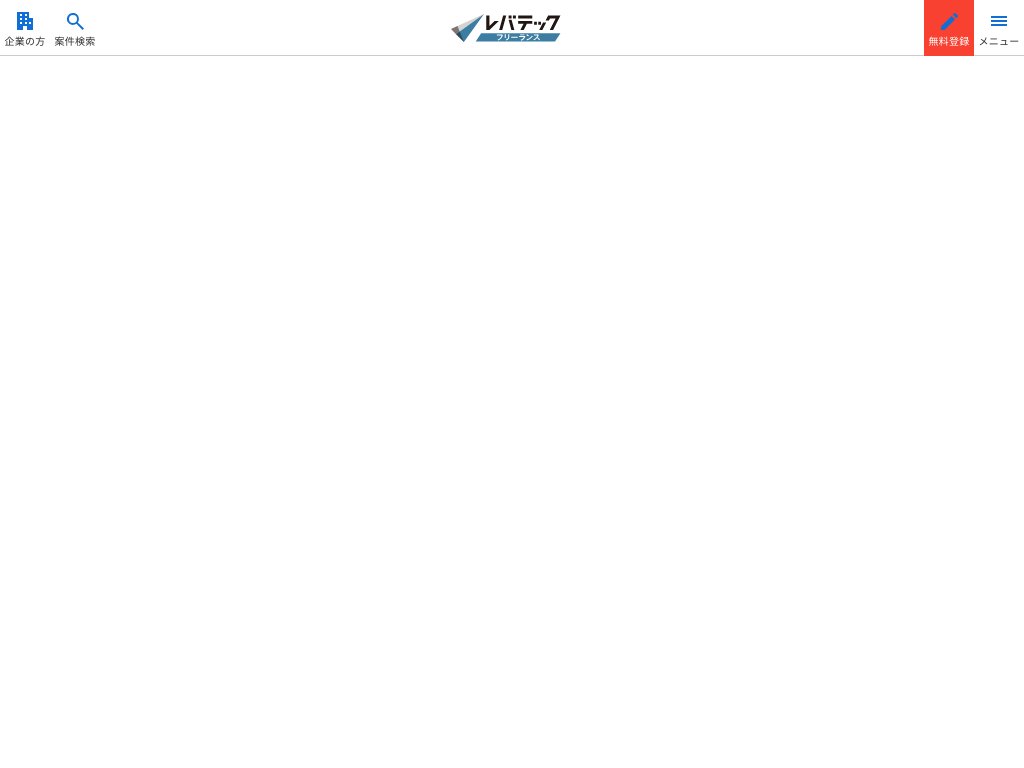
Test case: HeaderSp › メニューボタンをクリックするとグローバルナビメニューが開くこと
The image size is (1024, 768).
Click the button "メニュー". click: coordinates (999, 28)
box: [974,0,1023,56]
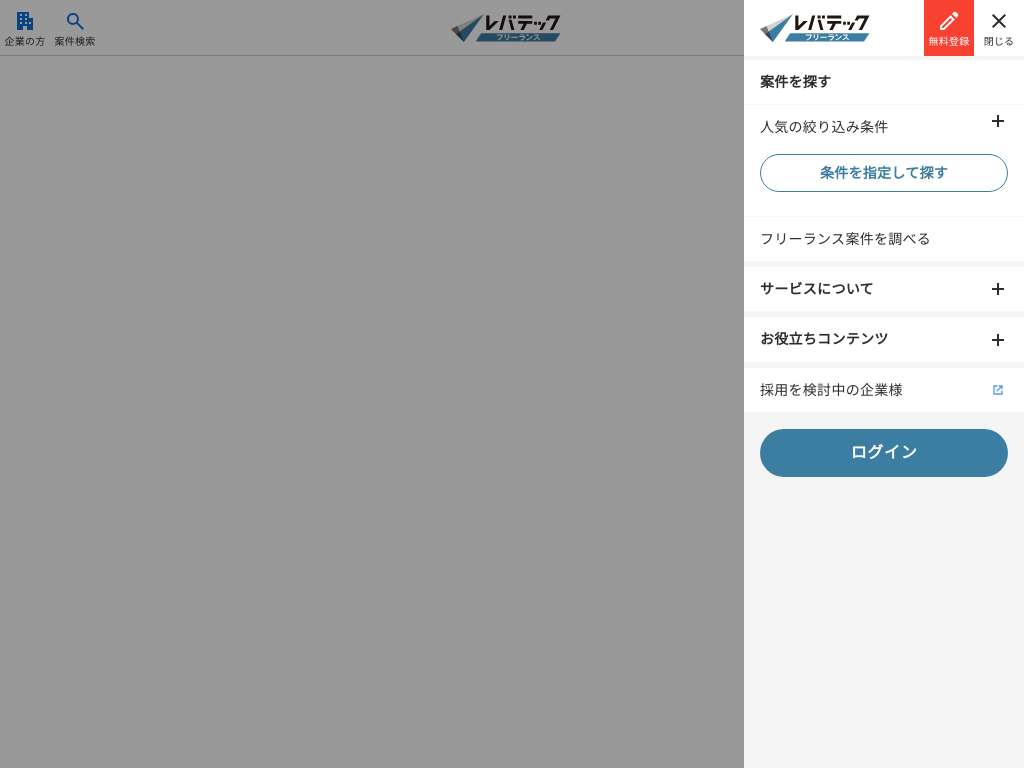
Expected: the navigation bar is shown, [744,0,1023,477]
Expected: the text "案件を探す" is shown, [760,74,831,90]
Expected: the button "サービスについて" is shown, [744,267,1023,312]
